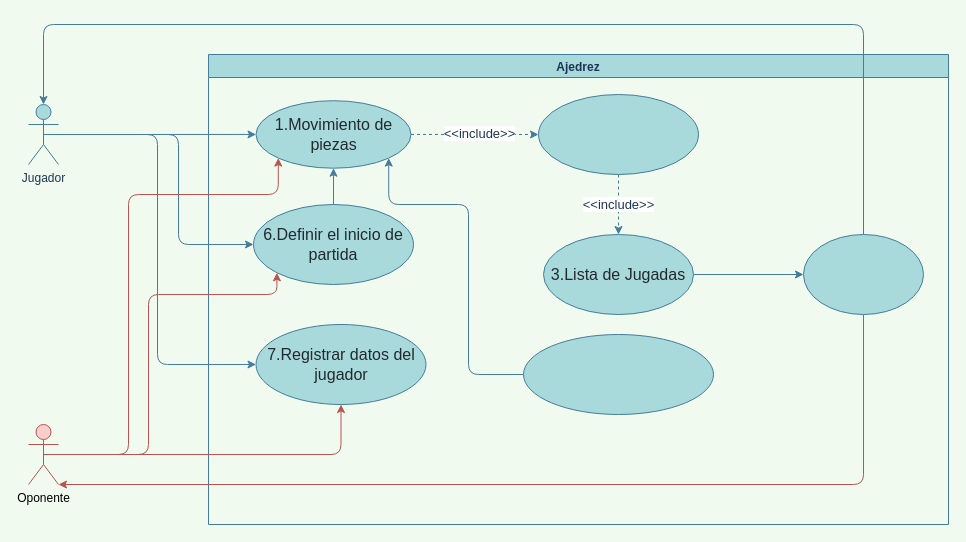
The diagram is 966 pixels wide and 542 high, and some of its shapes have lost their labels. The box of each missing label's shape, as (x1, y1, x2, y2) in pixels:
2.Control de tiempo en la partida: (522, 334, 714, 414)
4.Lista fin de partida: (802, 234, 924, 314)
5.Casillas de Movimiento posible: (538, 94, 698, 174)
